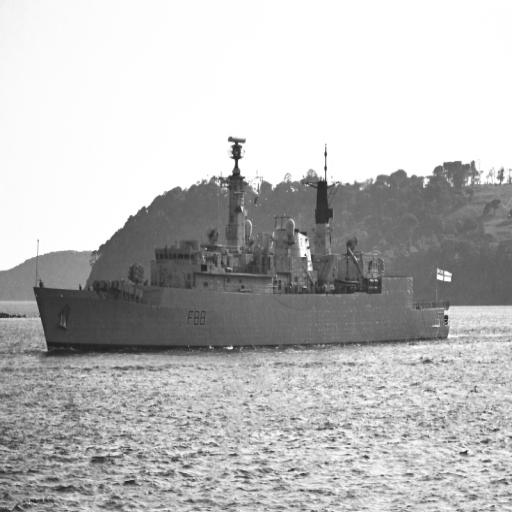Fragata: (32, 134, 455, 360)
